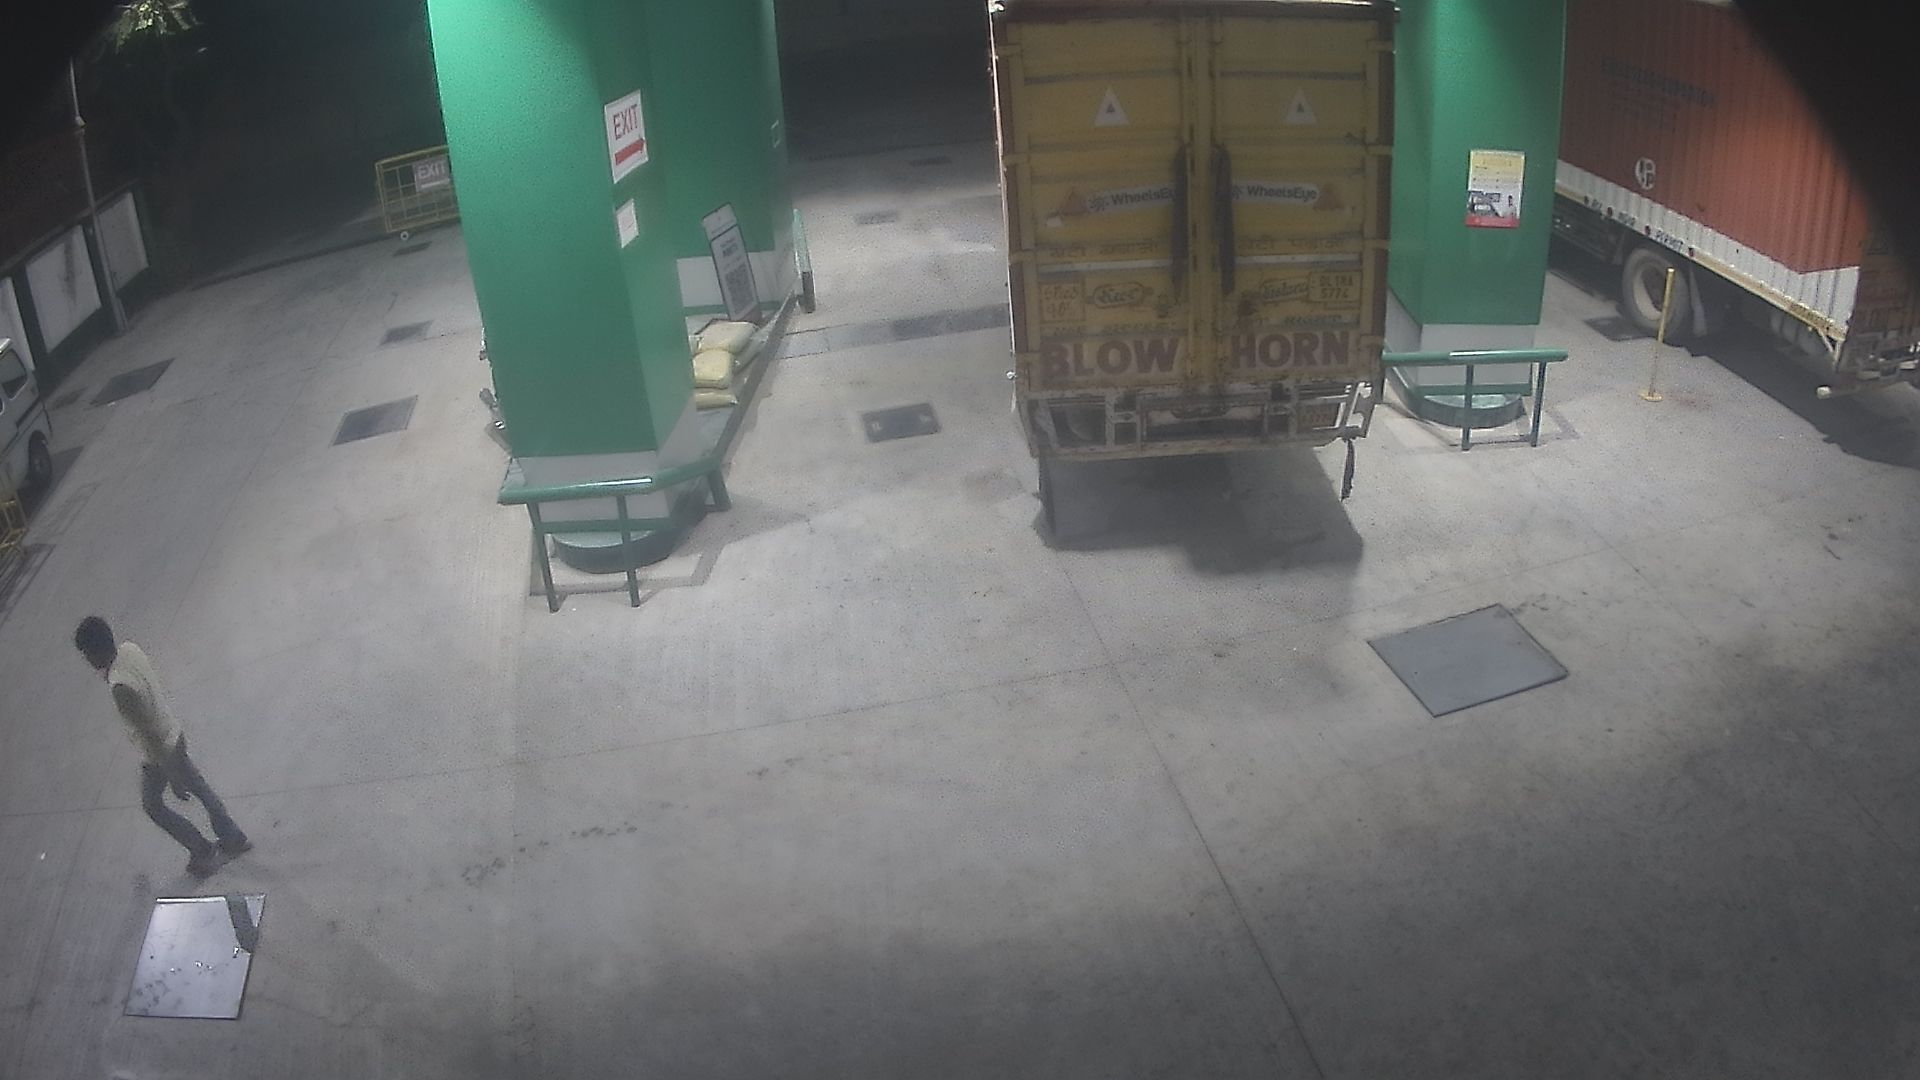Car: (0, 297, 69, 585)
HMV: (951, 1, 1424, 553), (1532, 0, 1917, 452)
Others Other: (1618, 235, 1697, 418)
